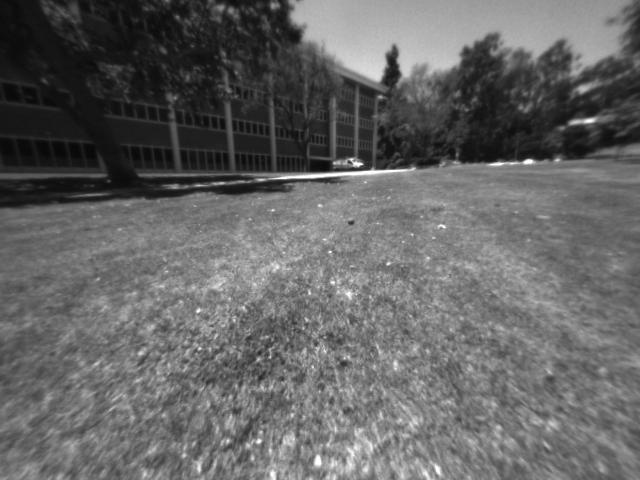dogtoy: (342, 213, 361, 228)
